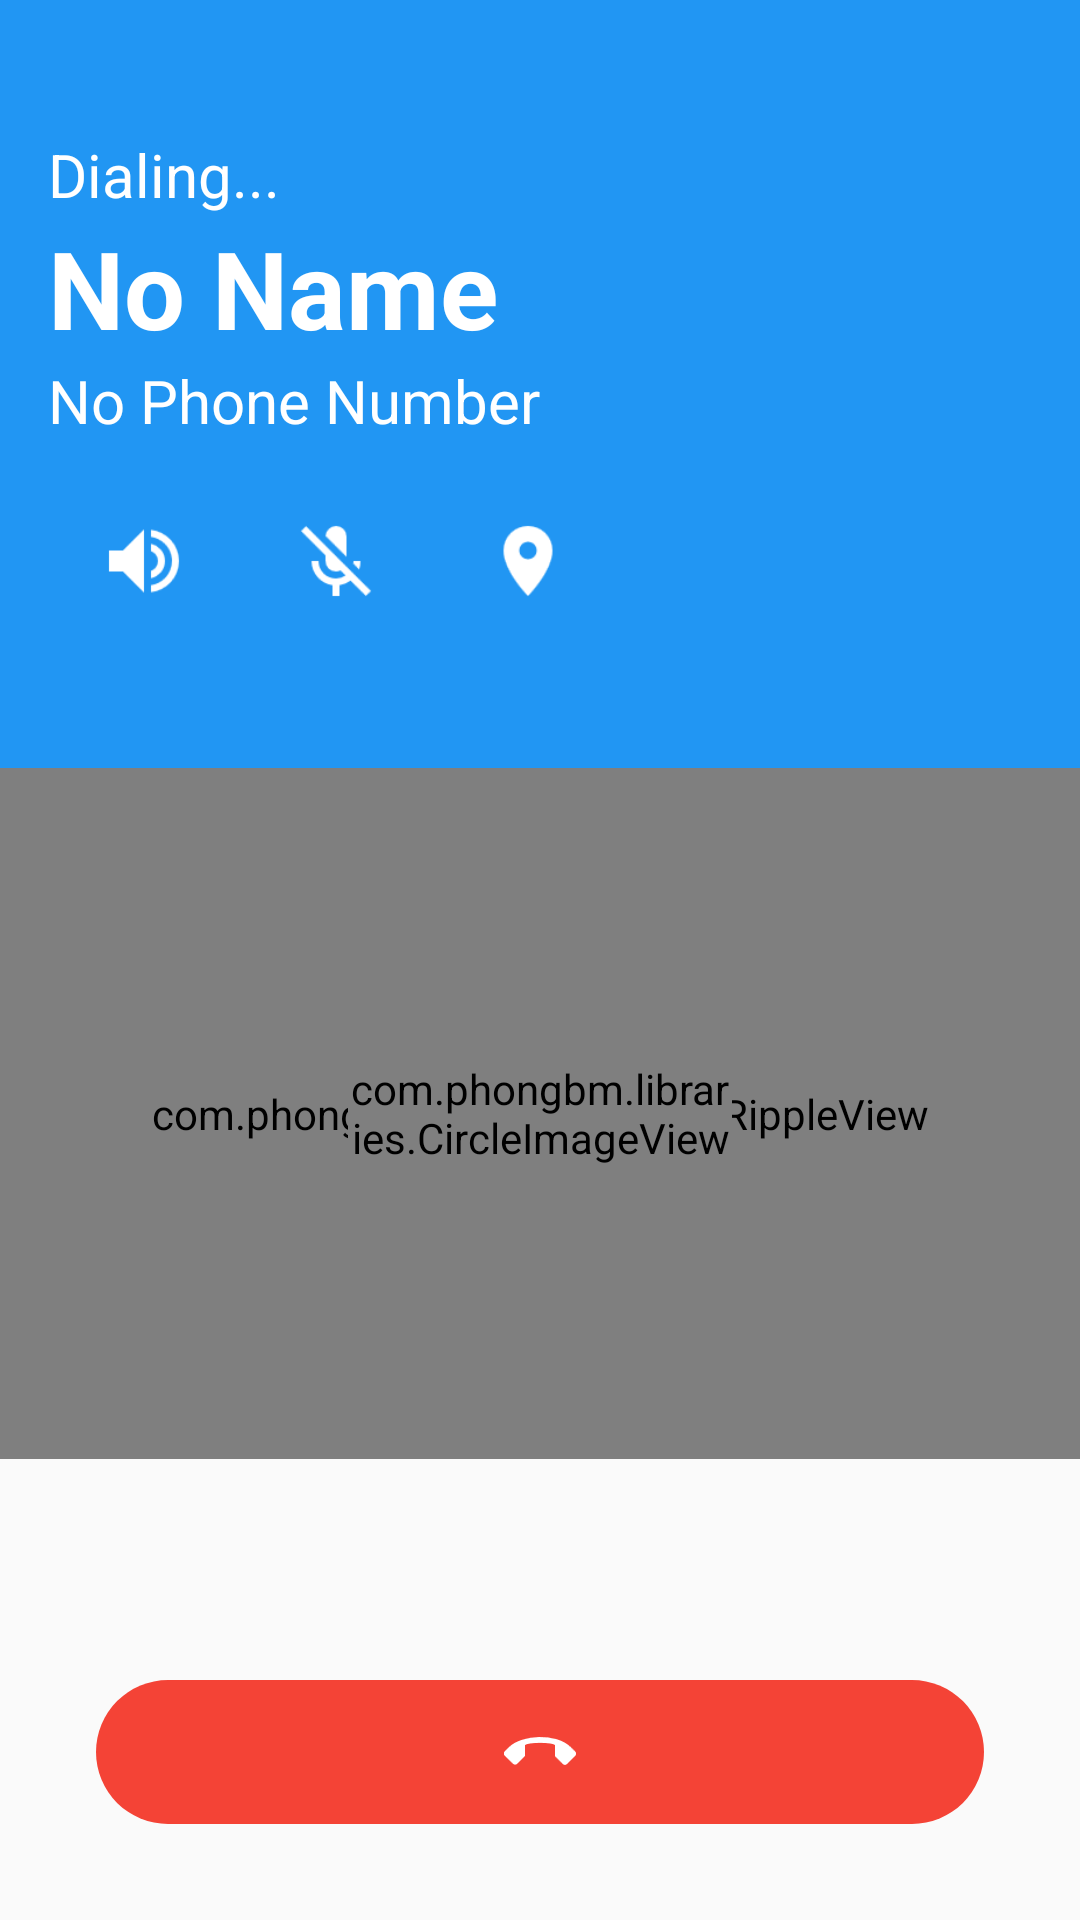

Locate icon controls on the screen. Image size 1080*1920, boxes as (x1, y1, x2, y2).
location: (503, 526, 553, 596)
no microphone: (301, 526, 371, 596)
speaker: (109, 529, 179, 593)
